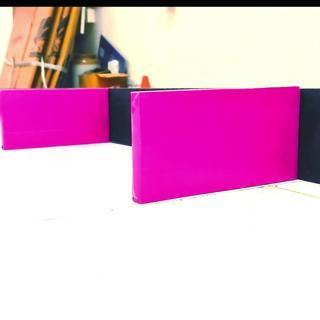xparking: (130, 90, 300, 196), (1, 90, 110, 150)
